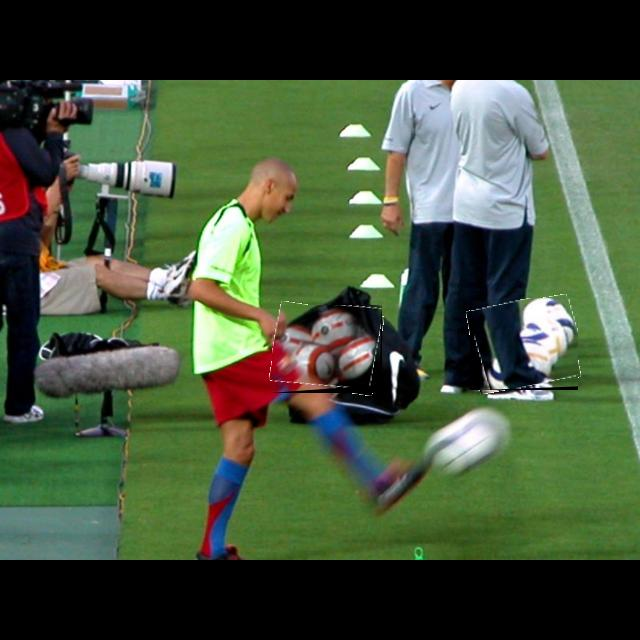Football: (470, 298, 578, 390), (272, 305, 382, 393)
